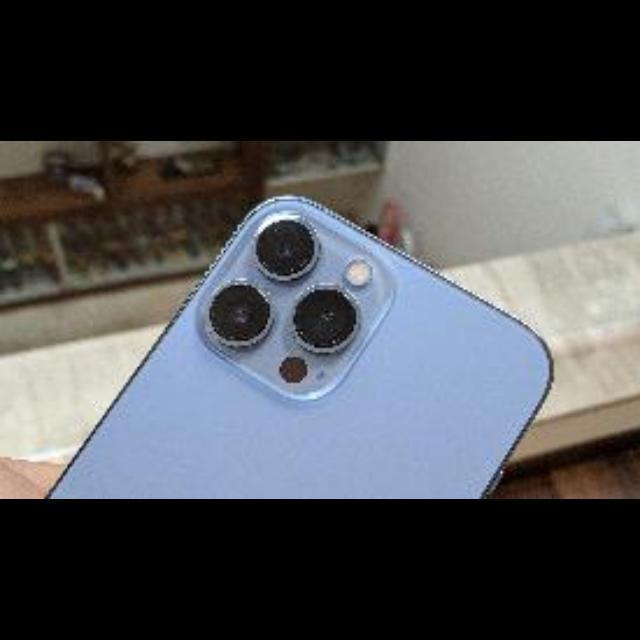phone: (0, 144, 594, 512)
